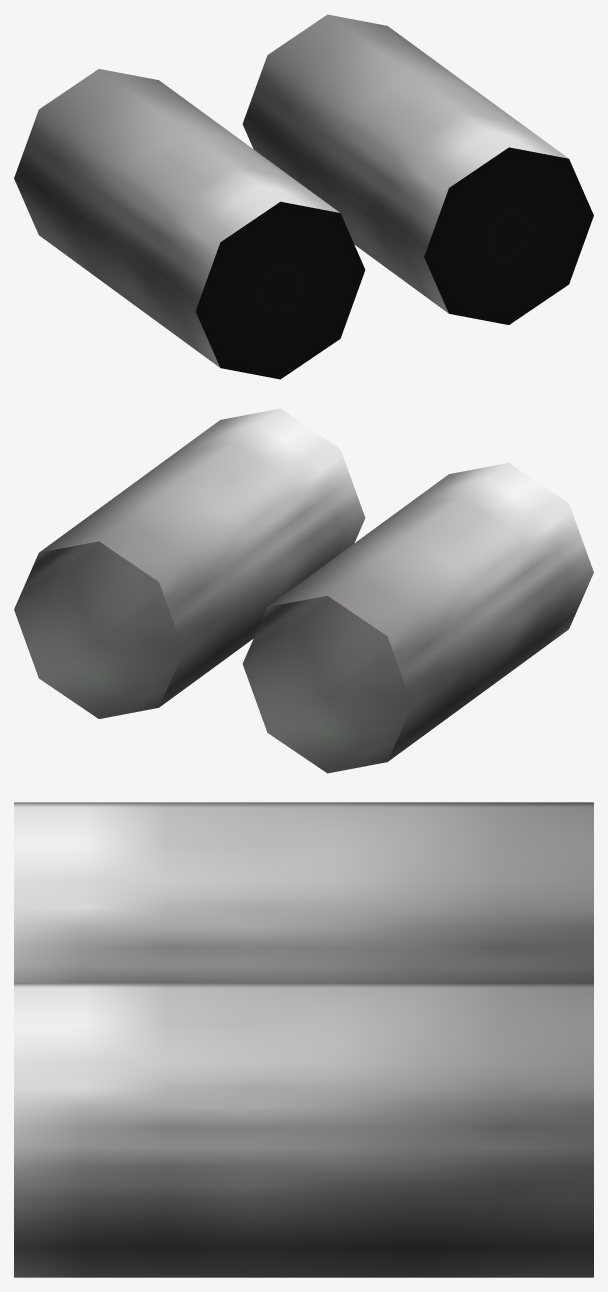
The model's file is exh_b_t.glb.
3 views of the same model, one above another, from view 1: azimuth 30°, elevation 25°; view 2: azimuth 150°, elevation 25°; view 3: azimuth 270°, elevation 25° (orthographic). The views are drawn at different scales.
Visible parts, largest first — view 1: exh_b_t; view 2: exh_b_t; view 3: exh_b_t.
Part boxes in pixels (x1,y1,x2,y2): exh_b_t: [14, 14, 593, 379]; exh_b_t: [14, 408, 593, 773]; exh_b_t: [14, 802, 593, 1277].
Bounding box in the file's own units: 0.2592 × 0.1114 × 0.2045.
Materials: 2 (2 with a texture image).
